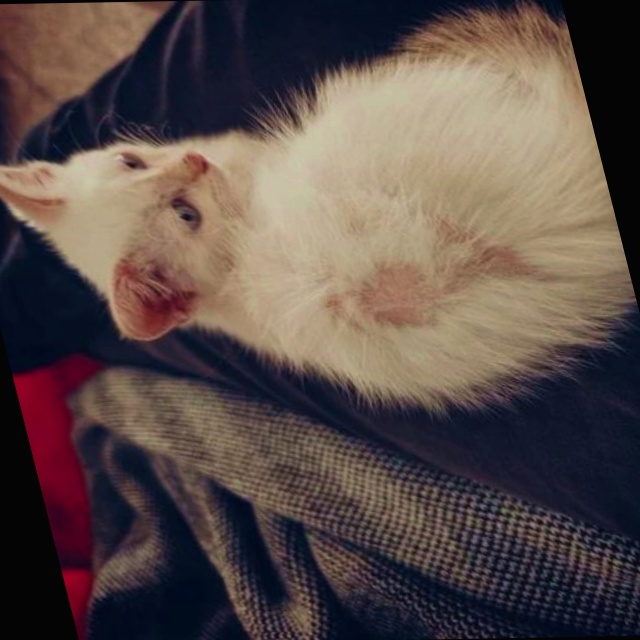hairloss: (334, 233, 537, 321)
